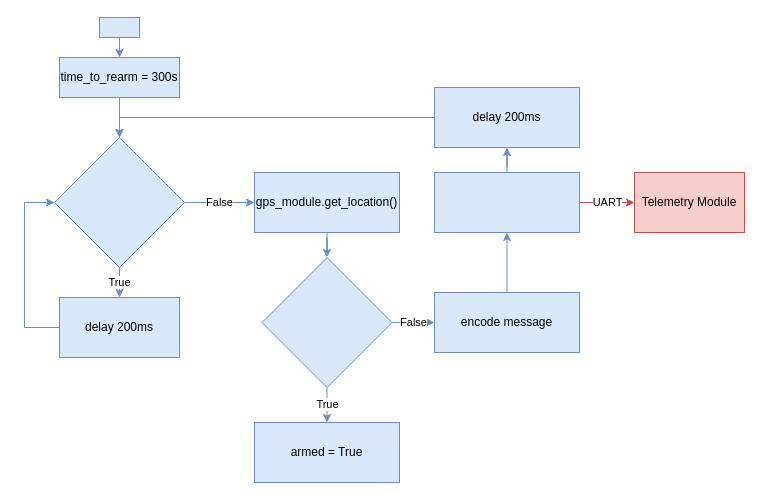
Some shapes in this 762 by 500 pixel diagram are drawn without their labels. Here are the shapes that lost their labels. From the top down, the centre of each, then its label:
At [119,27]: "Start".
At [119,202]: "subsystem.stop_flag".
At [507,202]: "send message".
At [326,322]: "time_since_disarm >= time_to_rearm".
